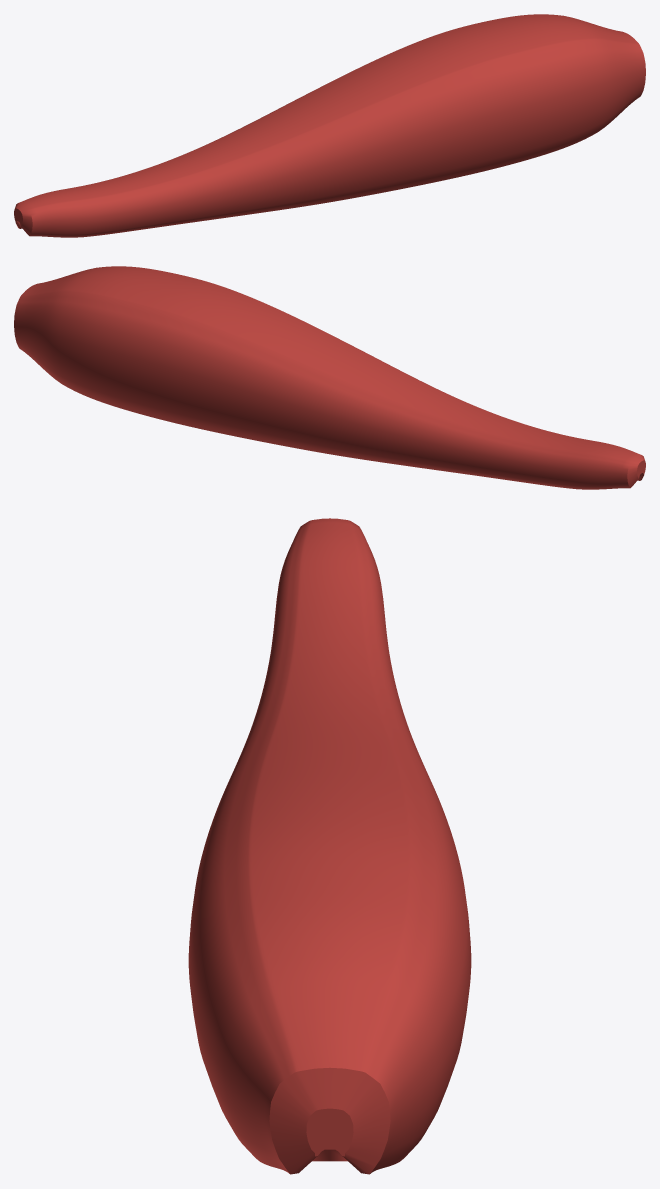
Rendered from chopper_4_lod1.glb.
The picture shows the model from 3 angles, top to bottom: view 1: azimuth 30°, elevation 25°; view 2: azimuth 150°, elevation 25°; view 3: azimuth 270°, elevation 25°; orthographic projection. The views are drawn at different scales.
Parts seen in each view (by area): view 1: chopper_4_lod1; view 2: chopper_4_lod1; view 3: chopper_4_lod1.
Boxes of the visible parts, x1,y1,x2,y2 form: chopper_4_lod1: (14,14,645,237); chopper_4_lod1: (14,266,645,489); chopper_4_lod1: (188,518,471,1174).
Size of the model in its own units: 1.06 by 0.1845 by 0.2109.
